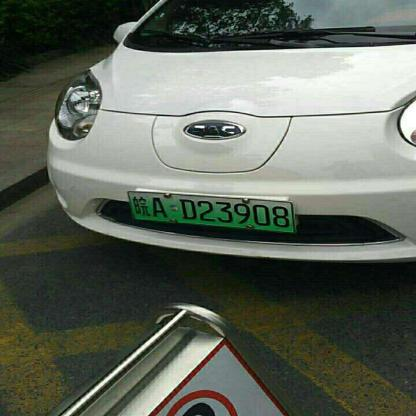lp: (125, 190, 296, 235)
